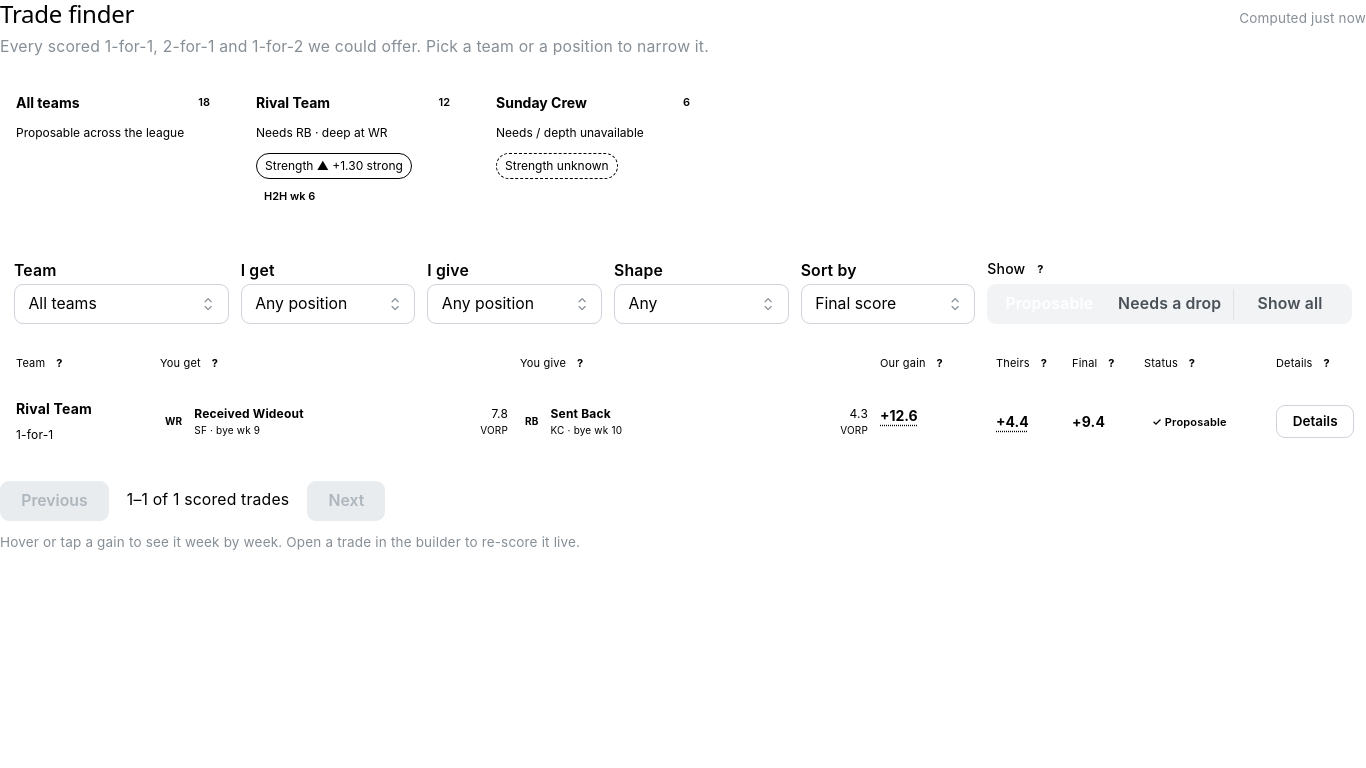
Test: opens an accessible week-by-week gain popover on focus
The image size is (1366, 768).
Expected: the text "Received Wideout" is shown, [194,406,304,421]
Focus the button named "Where our gain comes from" at (899, 415), box [880,405,918,426]
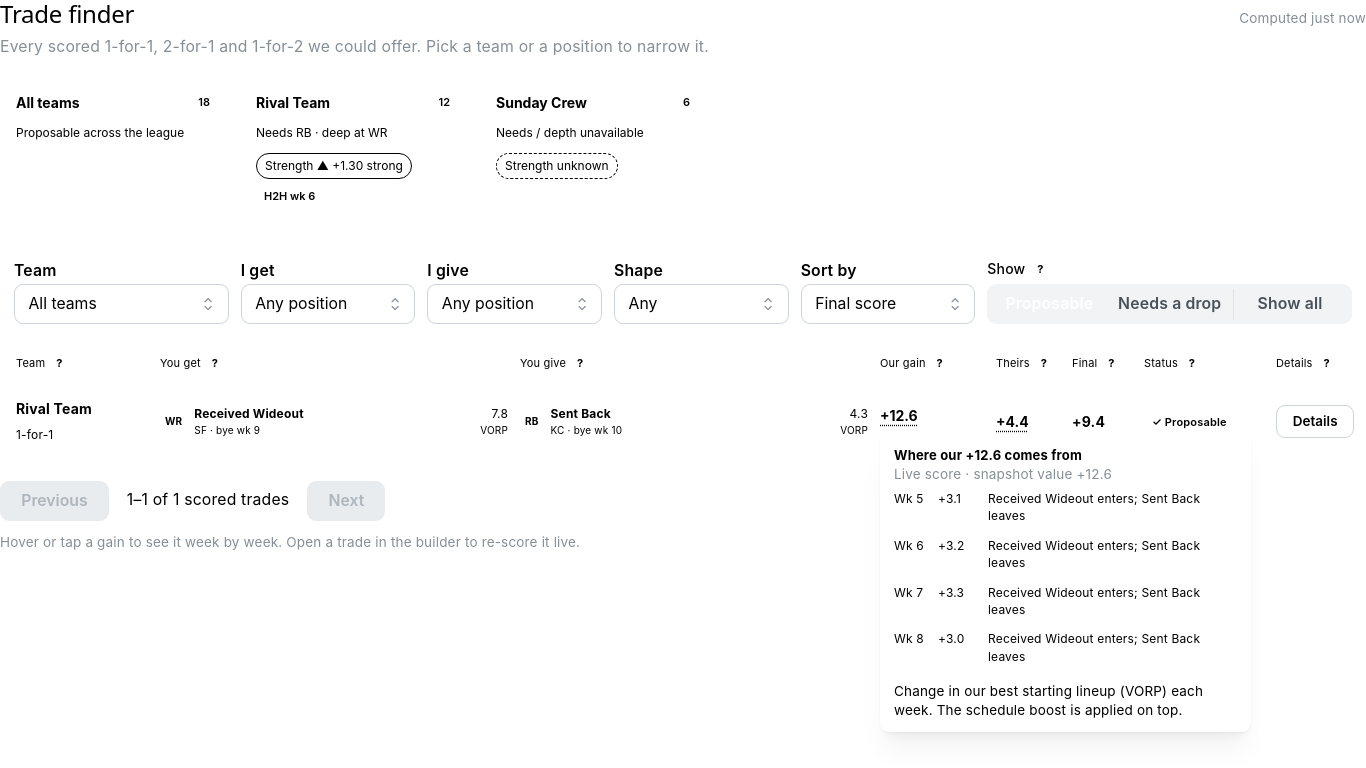
Now the text "Where our +12.6 comes from" is shown, box [894,447,1082,463]
Now the text "Wk 5" is shown, box [894,491,924,506]
Now the text "schedule boost is applied on top" is shown, box [894,683,1203,718]
